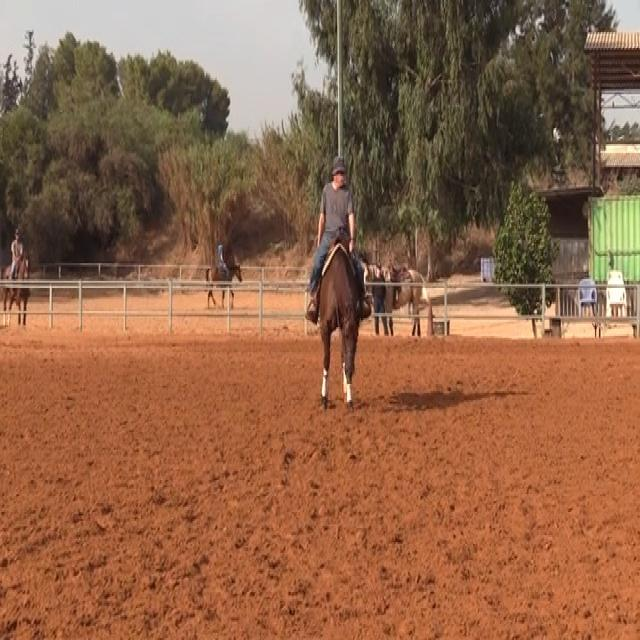horse: (314, 233, 368, 411)
